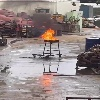fire: (41, 29, 60, 40)
